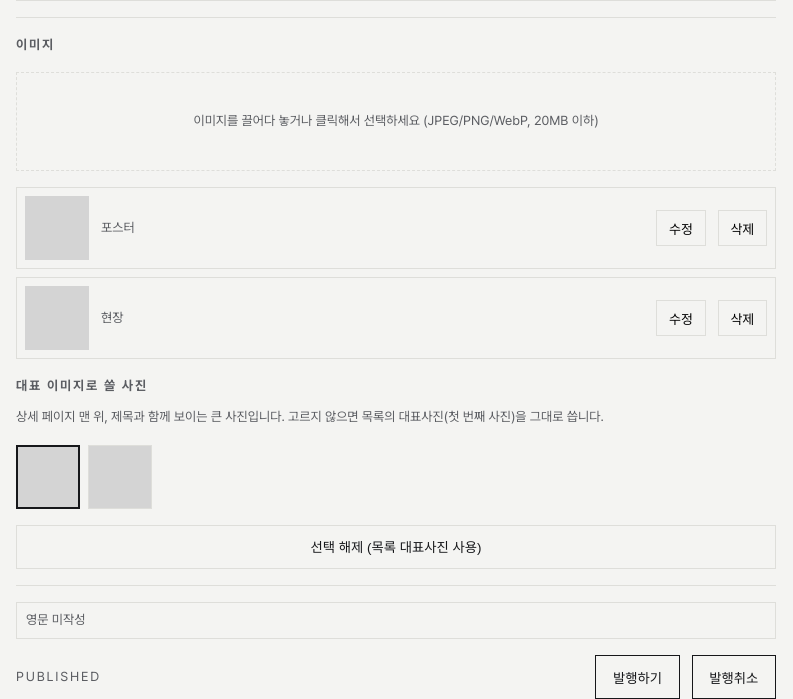
it: ProductionEditPanel 대표 이미지 › 선택 해제를 누르면 대표 이미지 지정을 null로 되돌린다
(page scrolled)
Click the button "선택 해제 (목록 대표사진 사용)". click: (396, 547)
box: [16,525,776,569]
(page scrolled)
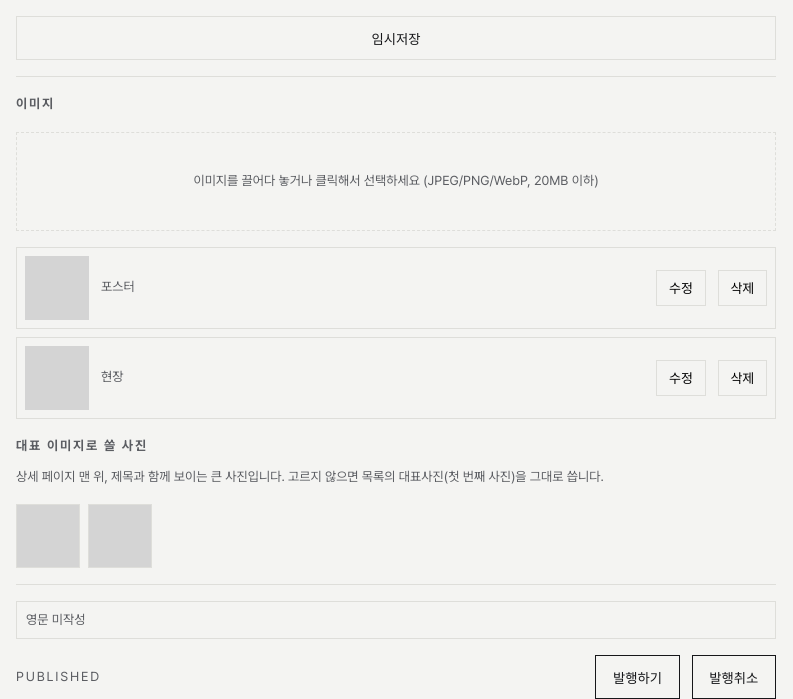
Now the button "선택 해제 (목록 대표사진 사용)" is gone
